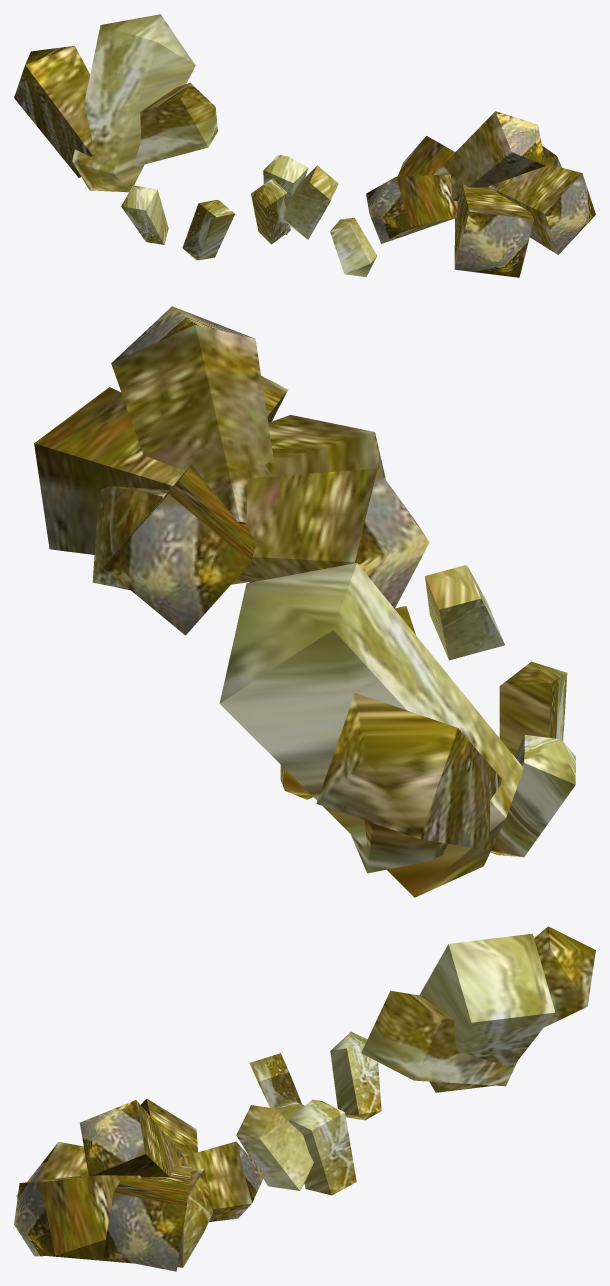
The model's file is dujvshi_2.fbx.
3 views of the same model, one above another, from view 1: azimuth 30°, elevation 25°; view 2: azimuth 150°, elevation 25°; view 3: azimuth 270°, elevation 25° (orthographic). The views are drawn at different scales.
Parts seen in each view (by area): view 1: pCylinder11; view 2: pCylinder11; view 3: pCylinder11.
Part boxes in pixels (x1,y1,x2,y2): pCylinder11: [14, 14, 595, 277]; pCylinder11: [34, 306, 575, 897]; pCylinder11: [14, 926, 595, 1271].
Size of the model in its own units: 111 by 48.46 by 123.
